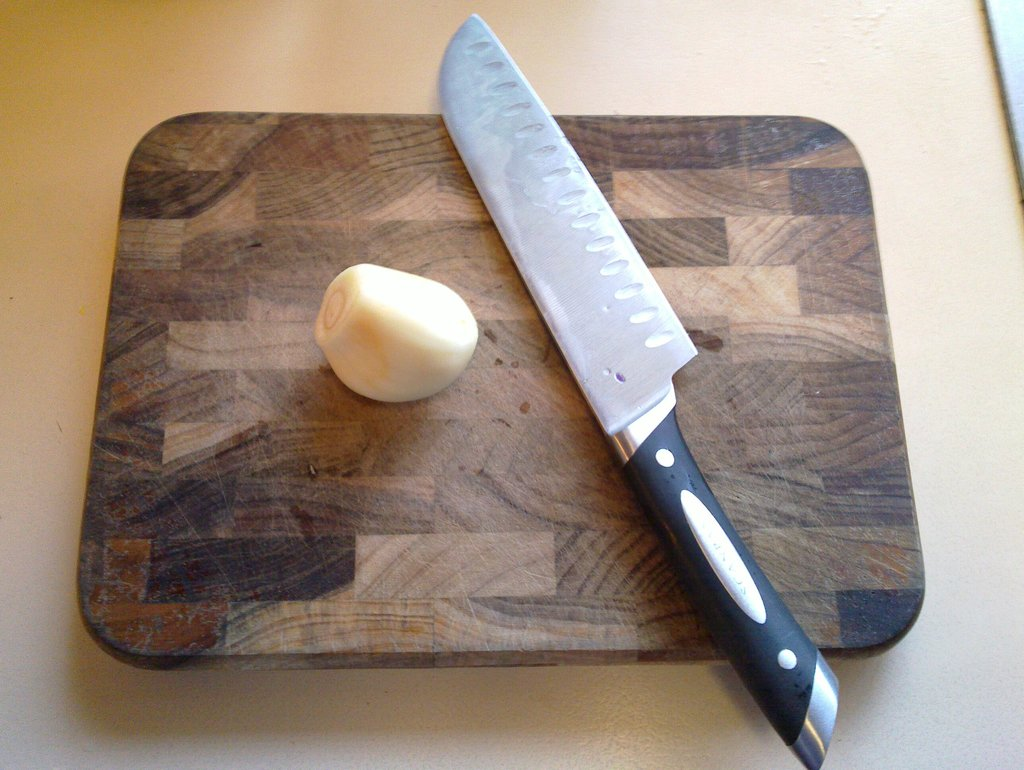knife: (436, 12, 838, 769)
